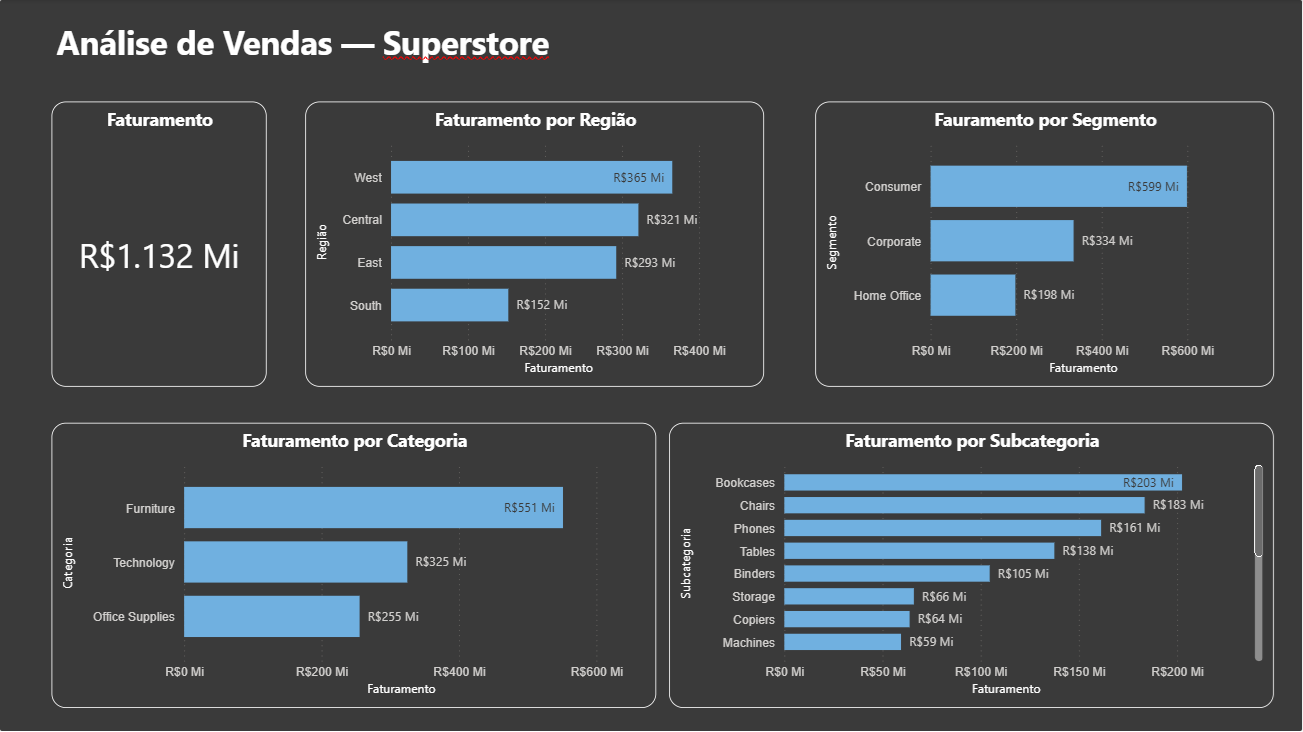

What the dashboard file says about the page in this screenshot:
{"tool":"powerbi","page":{"name":"Página 1","canvas":[1280,720],"ordinal":0},"visuals":[{"type":"card","title":"Faturamento","fields":{"Values":["Sum(SampleSuperstore.Sales)"]},"box":[51.5,100.6,211,279.8],"z":0},{"type":"barChart","title":"Faturamento por Categoria","fields":{"Category":["SampleSuperstore.Category"],"Y":["Sum(SampleSuperstore.Sales)"]},"box":[51.5,416,593.9,279.8],"z":1},{"type":"barChart","title":"Faturamento por Subcategoria","fields":{"Category":["SampleSuperstore.Sub-Category"],"Y":["Sum(SampleSuperstore.Sales)"]},"box":[657.7,416,593.9,279.8],"z":2},{"type":"barChart","title":"Faturamento por Região","fields":{"Category":["SampleSuperstore.Region"],"Y":["Sum(SampleSuperstore.Sales)"]},"box":[323.9,100.6,450.3,279.8],"z":3},{"type":"barChart","title":"Fauramento por Segmento","fields":{"Y":["Sum(SampleSuperstore.Sales)"],"Category":["SampleSuperstore.Segment"]},"box":[801.2,100.6,450.3,279.8],"z":4},{"type":"textbox","box":[51.5,16,498.2,67.5],"z":5}]}

Visuals, with their boxes in screenshot pixels (x1, y1, x2, y2), scaled from the page's 1280x720 canvas onto the 1303x732 screenshot:
"Faturamento" card: 52/102/267/387
"Faturamento por Categoria" barChart: 52/423/657/707
"Faturamento por Subcategoria" barChart: 670/423/1274/707
"Faturamento por Região" barChart: 330/102/788/387
"Fauramento por Segmento" barChart: 816/102/1274/387
textbox: 52/16/560/85
